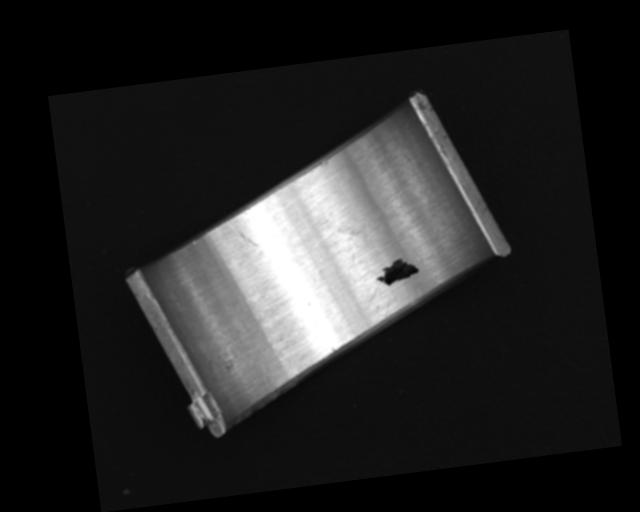blot: (335, 219, 395, 257), (373, 255, 421, 289)
bruise: (321, 157, 329, 167), (328, 345, 337, 353)
nick: (226, 215, 259, 251)
